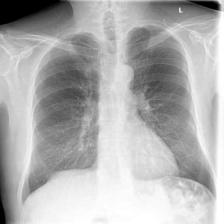normal: (18, 21, 220, 206)
